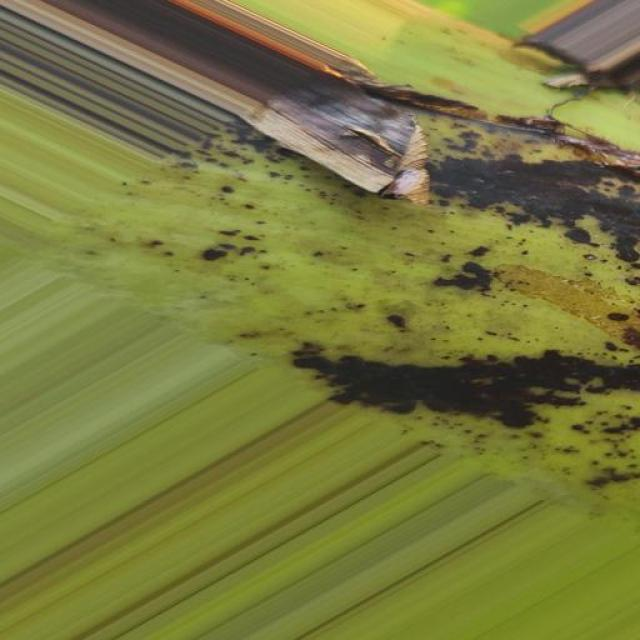Anthracnose: (27, 71, 640, 543)
